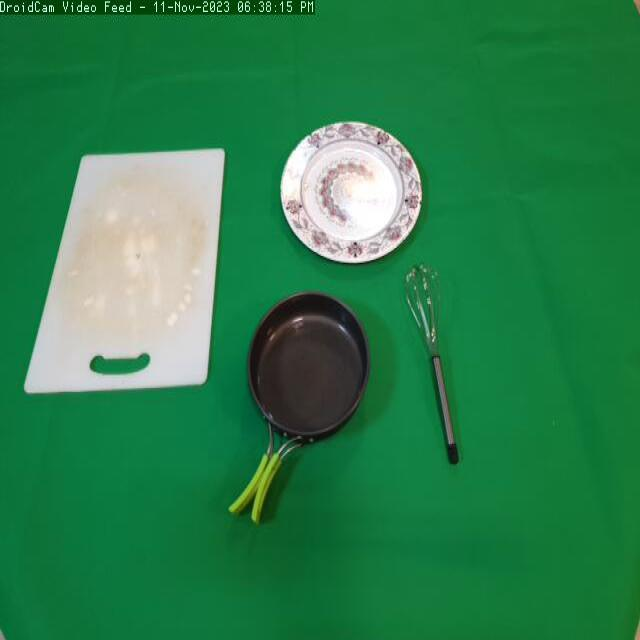cutting board: (19, 135, 236, 416)
pan: (227, 288, 379, 531)
plate: (275, 120, 422, 275)
whisk: (396, 260, 474, 477)
